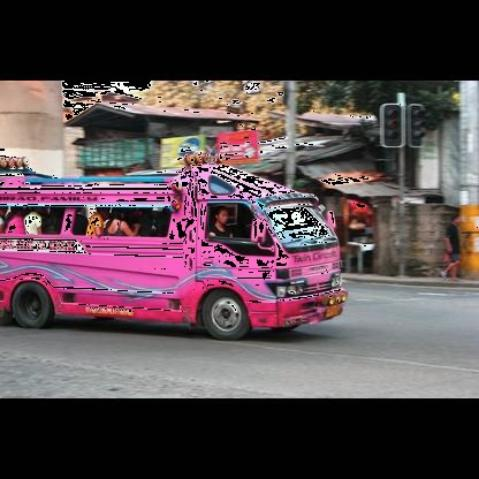jeepney: (0, 160, 354, 347)
